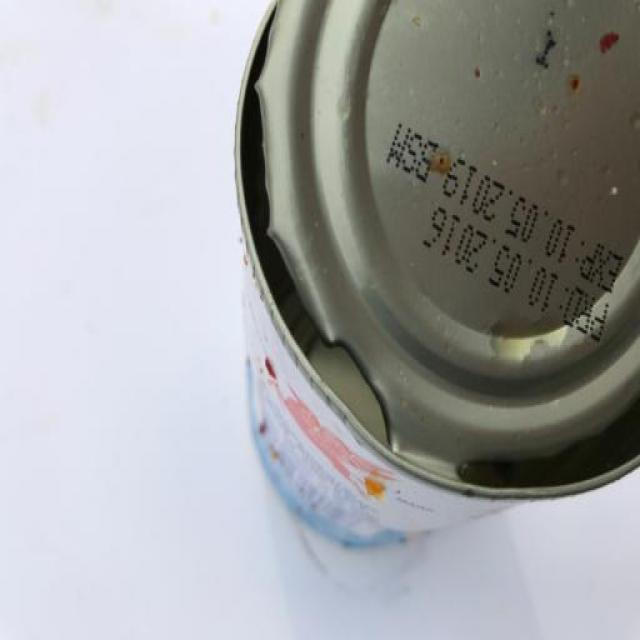metel: (215, 1, 640, 628)
